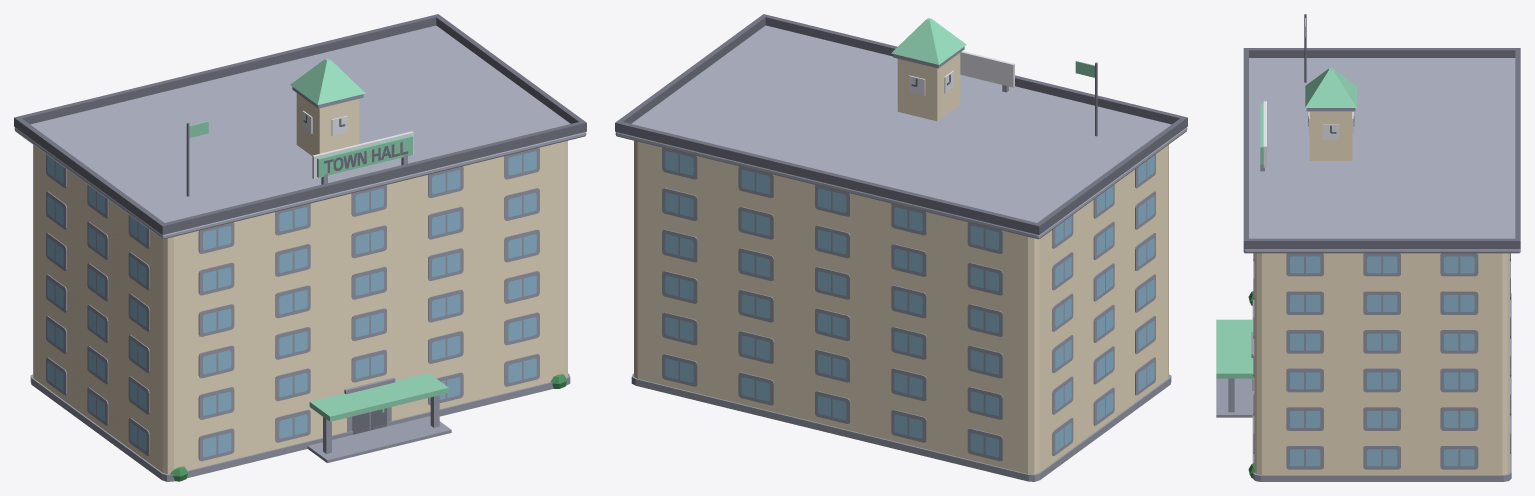
File: town-hall-3x2-6f.glb
3 views of the same model, side by side, from view 1: azimuth 30°, elevation 25°; view 2: azimuth 150°, elevation 25°; view 3: azimuth 270°, elevation 25° (orthographic). The views are drawn at different scales.
Parts seen in each view (by area): view 1: town-hall-3x2-6f; view 2: town-hall-3x2-6f; view 3: town-hall-3x2-6f.
Boxes of the visible parts, bbox=[...] form: town-hall-3x2-6f: bbox=[14, 14, 586, 481]; town-hall-3x2-6f: bbox=[615, 14, 1187, 481]; town-hall-3x2-6f: bbox=[1216, 14, 1520, 481].
Bounding box in the file's own units: 3 × 2.32 × 2.
Materials: 1 (1 with a texture image).
